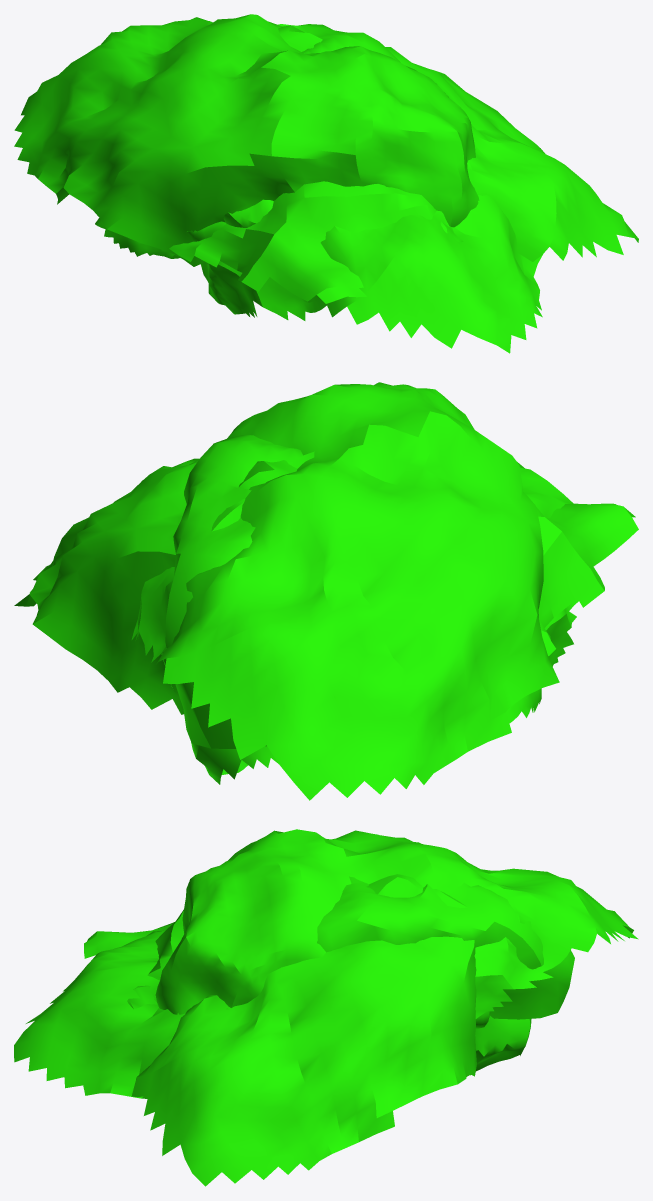
The model's file is Rocks.fbx.
3 views of the same model, one above another, from view 1: azimuth 30°, elevation 25°; view 2: azimuth 150°, elevation 25°; view 3: azimuth 270°, elevation 25° (orthographic). The views are drawn at different scales.
Visible parts, largest first — view 1: rock.005, rock.009, rock.006, rock.001, rock.002, rock.008; view 2: rock.005, rock.001, rock.006, rock.009, rock.008; view 3: rock.001, rock.005, rock.009, rock.006.
Boxes of the visible parts, x1,y1,x2,y2 form: rock.005: (14, 14, 479, 266); rock.009: (200, 159, 542, 353); rock.006: (169, 24, 463, 303); rock.001: (278, 25, 638, 261); rock.002: (223, 199, 273, 227); rock.008: (95, 218, 179, 258); rock.005: (131, 382, 559, 800); rock.001: (14, 458, 297, 714); rock.006: (165, 435, 638, 748); rock.009: (171, 462, 578, 784); rock.008: (506, 688, 541, 723); rock.001: (131, 874, 476, 1186); rock.005: (155, 829, 638, 1018); rock.009: (14, 930, 531, 1098); rock.006: (84, 876, 574, 1019).
Bounding box in the file's own units: 2171 × 1096 × 2638.
